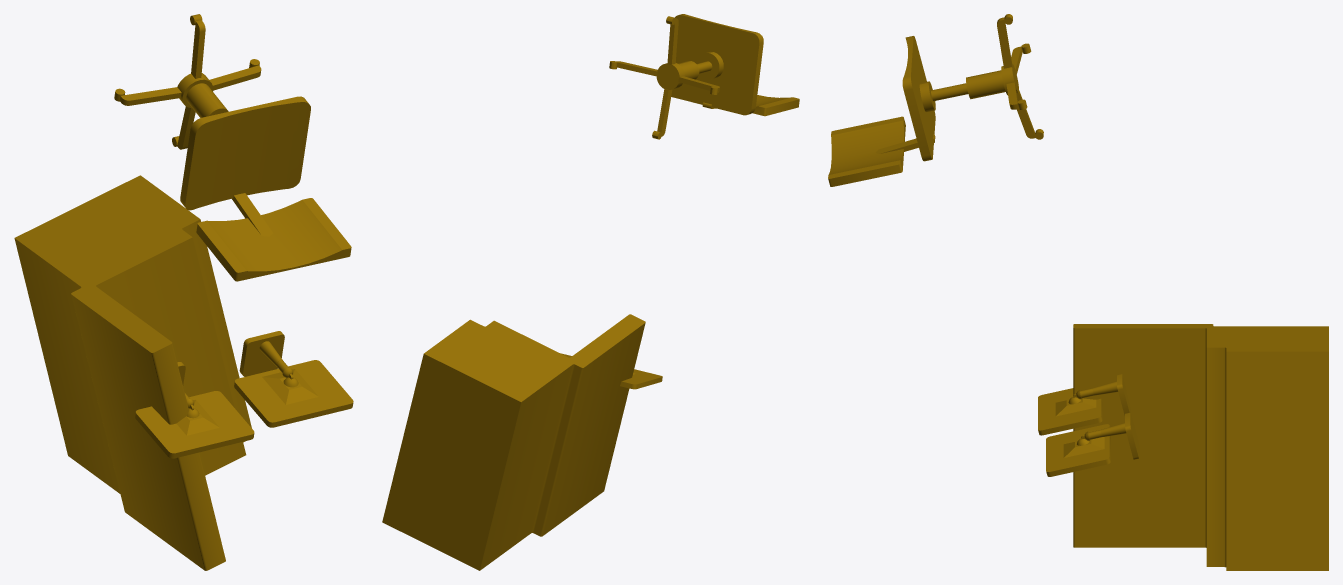
The picture shows the model from 3 angles, left to right: view 1: azimuth 30°, elevation 25°; view 2: azimuth 150°, elevation 25°; view 3: azimuth 270°, elevation 25°; orthographic projection. The views are drawn at different scales.
Visible parts, largest first — view 1: ELCONN_4_of_EQUIPMENT__XIDA001PP, ELCONN_1_of_EQUIPMENT__XIDA001PP, ELCONN_3_of_EQUIPMENT__XIDA001PP, ELCONN_2_of_EQUIPMENT__XIDA001PP; view 2: ELCONN_4_of_EQUIPMENT__XIDA001PP, ELCONN_1_of_EQUIPMENT__XIDA001PP, ELCONN_2_of_EQUIPMENT__XIDA001PP; view 3: ELCONN_4_of_EQUIPMENT__XIDA001PP, ELCONN_1_of_EQUIPMENT__XIDA001PP, ELCONN_3_of_EQUIPMENT__XIDA001PP, ELCONN_2_of_EQUIPMENT__XIDA001PP.
Part boxes in pixels (box(x1,y1,x2,y2)): ELCONN_4_of_EQUIPMENT__XIDA001PP: box(14, 175, 251, 570); ELCONN_1_of_EQUIPMENT__XIDA001PP: box(114, 14, 351, 281); ELCONN_3_of_EQUIPMENT__XIDA001PP: box(234, 331, 353, 427); ELCONN_2_of_EQUIPMENT__XIDA001PP: box(135, 362, 254, 458); ELCONN_4_of_EQUIPMENT__XIDA001PP: box(382, 314, 645, 570); ELCONN_1_of_EQUIPMENT__XIDA001PP: box(609, 14, 799, 139); ELCONN_2_of_EQUIPMENT__XIDA001PP: box(620, 369, 662, 389); ELCONN_4_of_EQUIPMENT__XIDA001PP: box(1073, 324, 1328, 570); ELCONN_1_of_EQUIPMENT__XIDA001PP: box(828, 14, 1043, 186); ELCONN_3_of_EQUIPMENT__XIDA001PP: box(1046, 412, 1139, 476); ELCONN_2_of_EQUIPMENT__XIDA001PP: box(1038, 374, 1130, 435).
Bounding box in the file's own units: 1.35 × 3.01 × 2.68.
